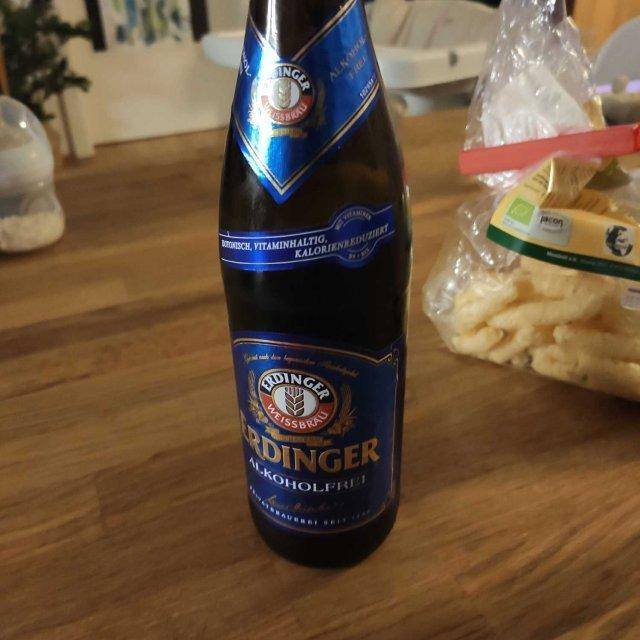Glass: (218, 0, 414, 570)
